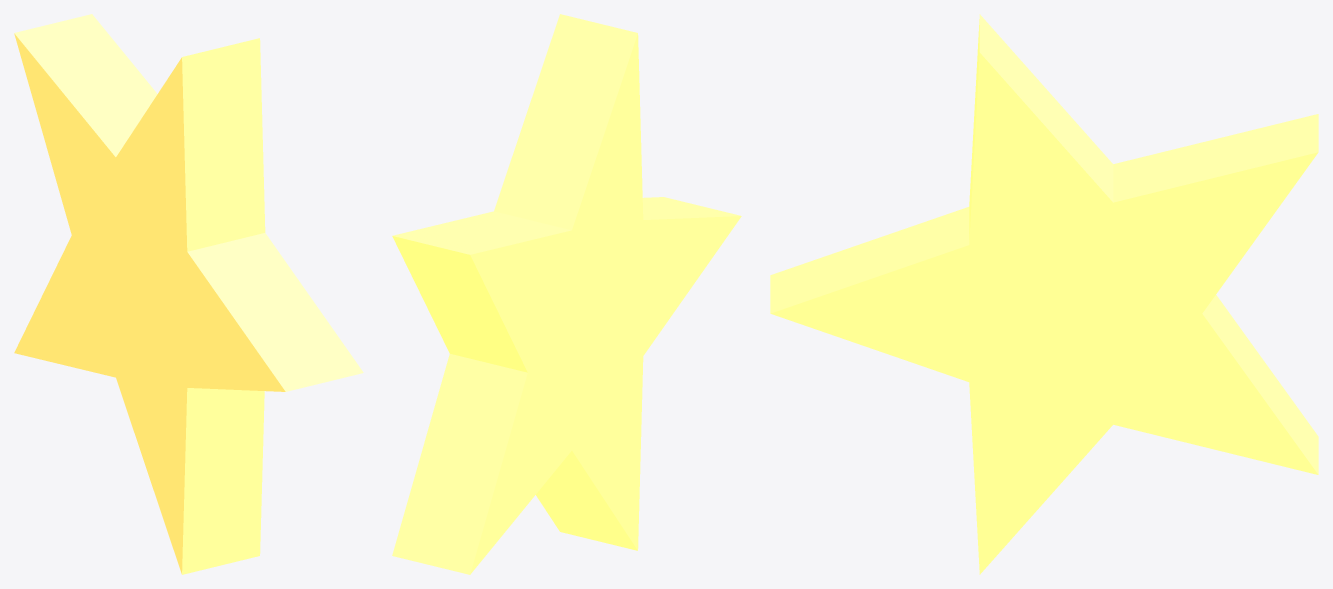
File: star.glb
3 views of the same model, side by side, from view 1: azimuth 30°, elevation 25°; view 2: azimuth 150°, elevation 25°; view 3: azimuth 270°, elevation 25° (orthographic).
Visible parts, largest first — view 1: star; view 2: star; view 3: star.
Part boxes in pixels (box(x1,y1,x2,y2)): star: box(14, 14, 363, 574); star: box(392, 14, 741, 574); star: box(770, 14, 1318, 574).
Size of the model in its own units: 0.012 by 0.0761 by 0.0724.
